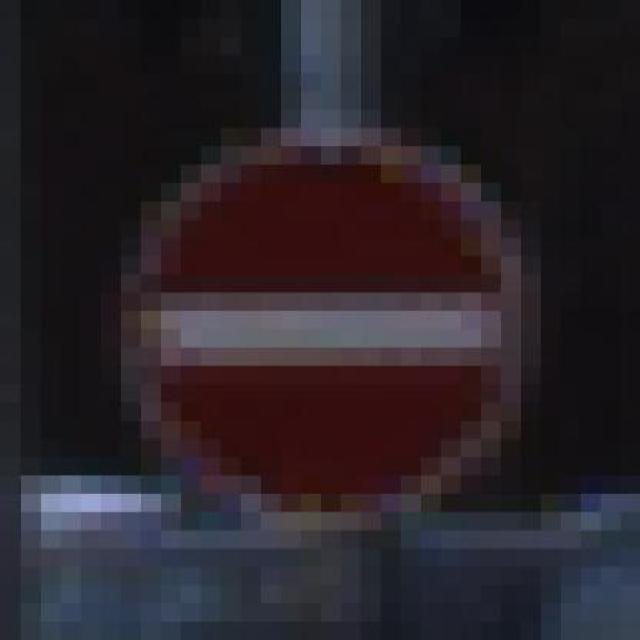No Entry: (80, 128, 540, 530)
